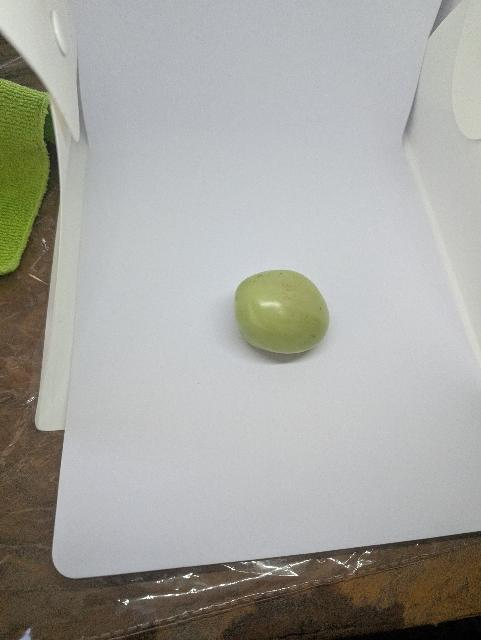green: (213, 267, 351, 374)
